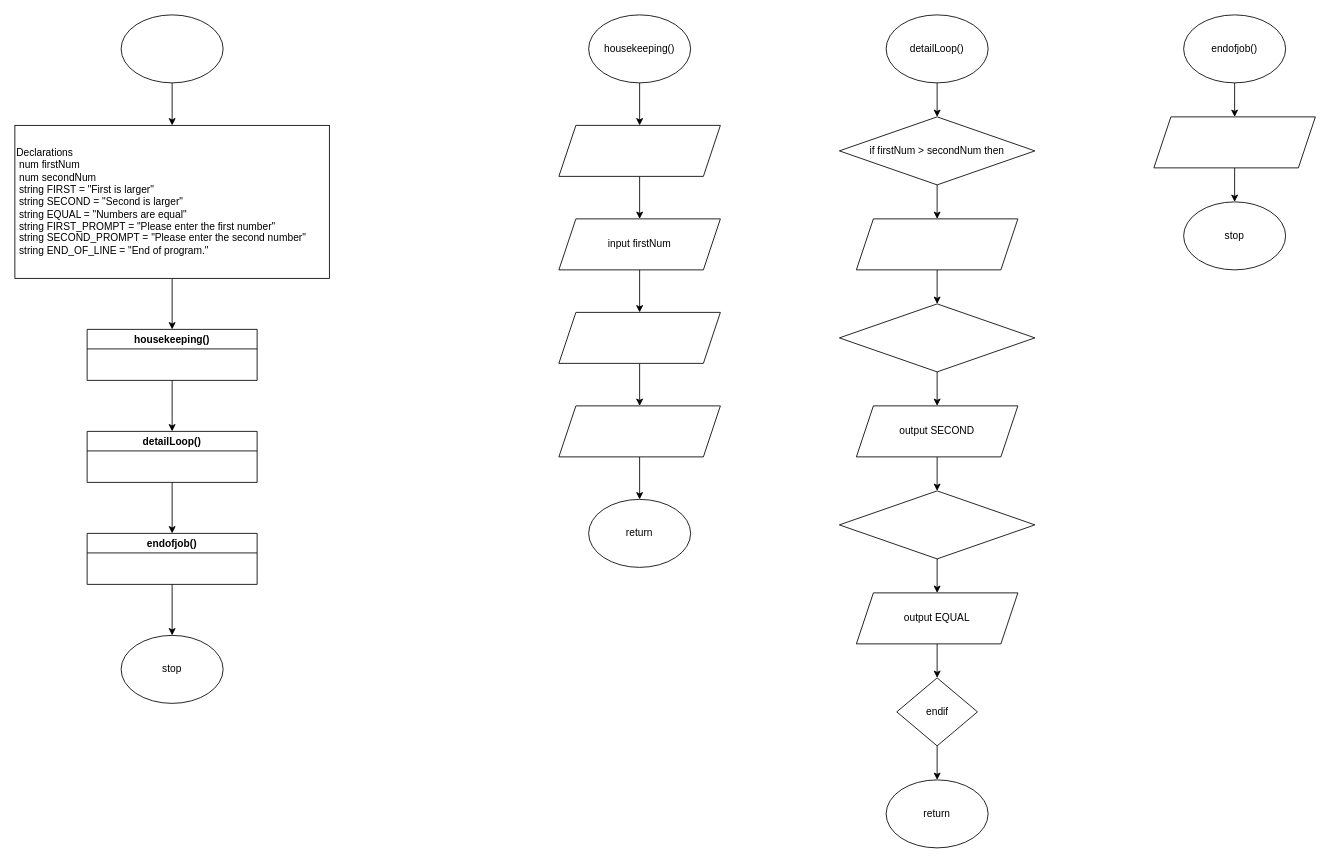
Some shapes in this 1330 by 863 pixel diagram are drawn without their labels. Each missing label, with the centre of its shape:
"else if firstNum < secondNum then" goes at pixel 937 337.
"else if firstNum == secondNum then" goes at pixel 937 524.
"input secondNum" goes at pixel 639 431.
"output END_OF_LINE" goes at pixel 1234 142.
"output FIRST" goes at pixel 937 244.
"output FIRST_PROMPT" goes at pixel 639 150.
"output SECOND_PROMPT" goes at pixel 639 337.
"start" goes at pixel 171 48.
